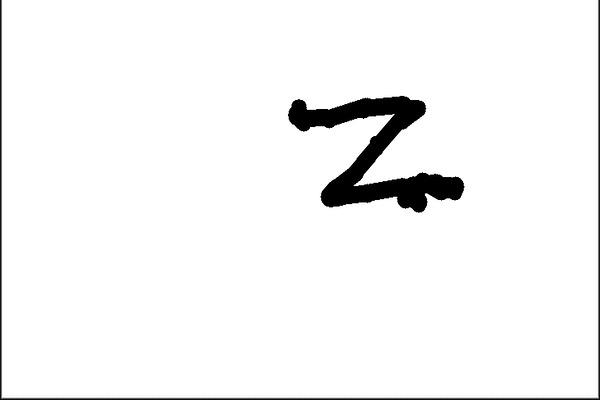Z: (282, 90, 477, 218)
